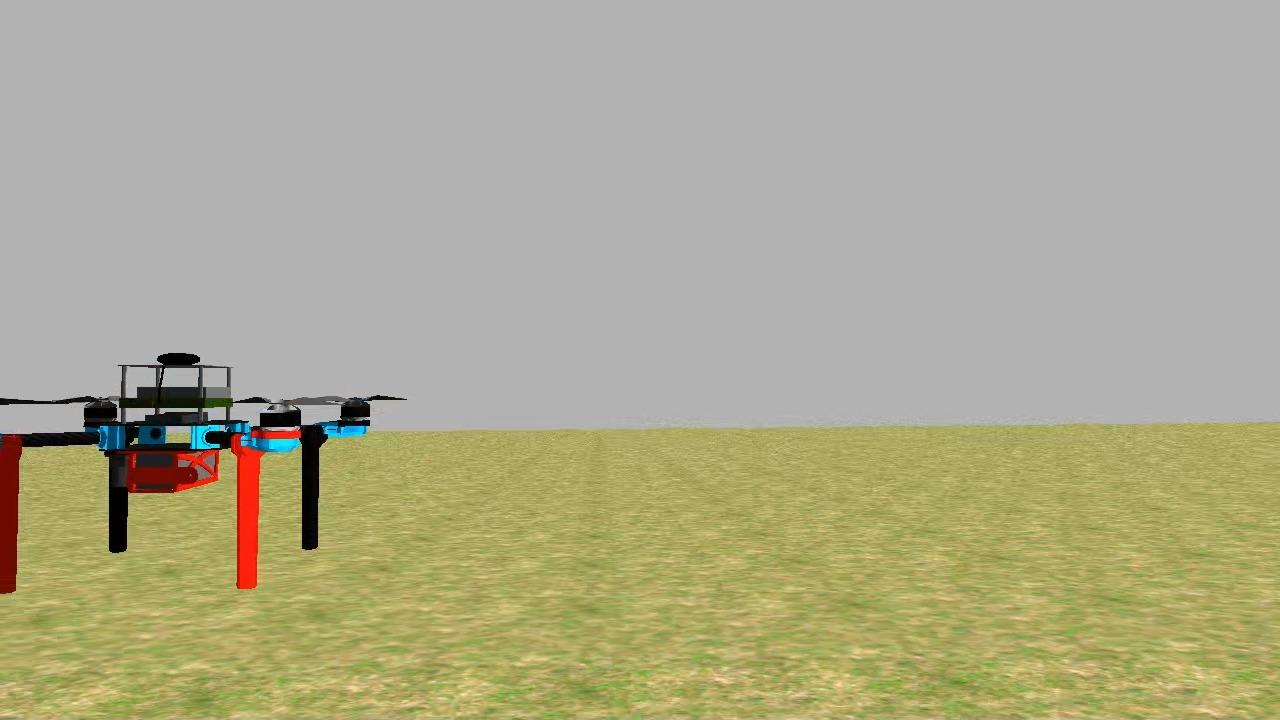UAV: (0, 350, 400, 605)
